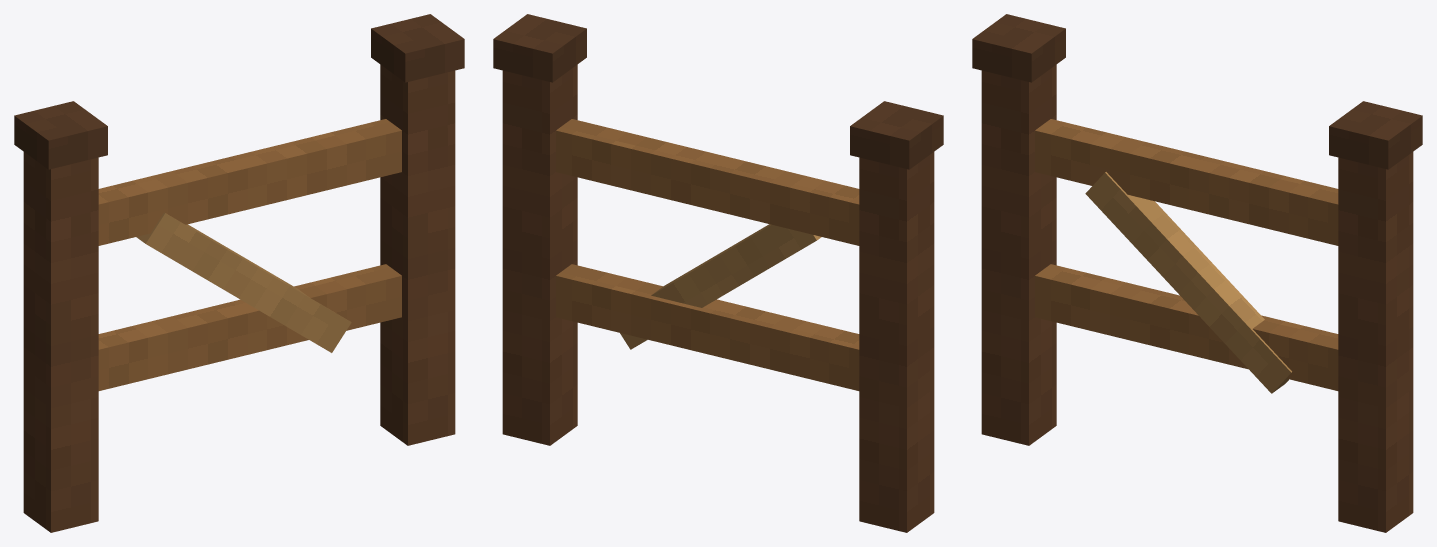
The model's file is barriere.glb.
The picture shows the model from 3 angles, left to right: view 1: azimuth 30°, elevation 25°; view 2: azimuth 150°, elevation 25°; view 3: azimuth 330°, elevation 25°; orthographic projection.
Visible parts, largest first — view 1: Barriere; view 2: Barriere; view 3: Barriere.
Part boxes in pixels (left/top/right/bottom): Barriere: left=14, top=14, right=464, bottom=532; Barriere: left=493, top=14, right=943, bottom=532; Barriere: left=972, top=14, right=1422, bottom=532.
Size of the model in its own units: 1.05 by 0.955 by 0.15.
4 materials, 4 textured.
